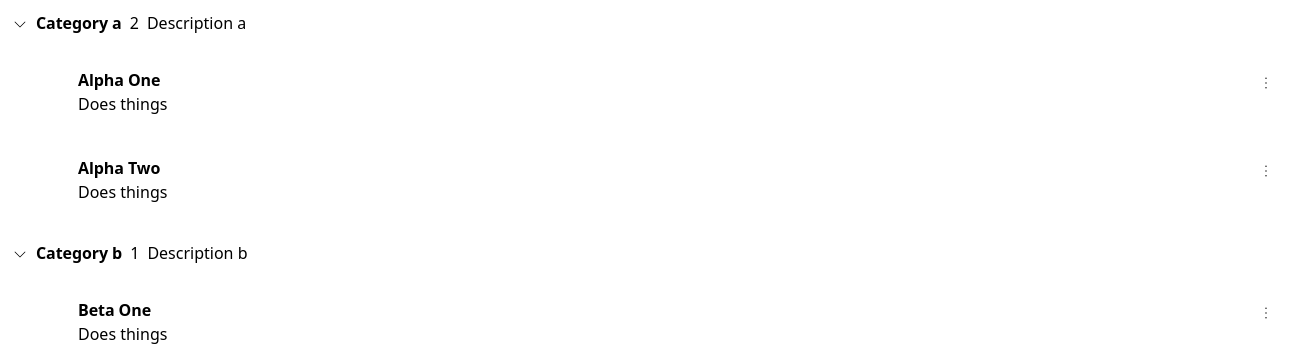
Test: CategoryAccordion › collapses only the clicked category, and re-expands on a second click
Click the button "Category a2 Description a" at coordinates (79, 23), box [12,12,1292,43]
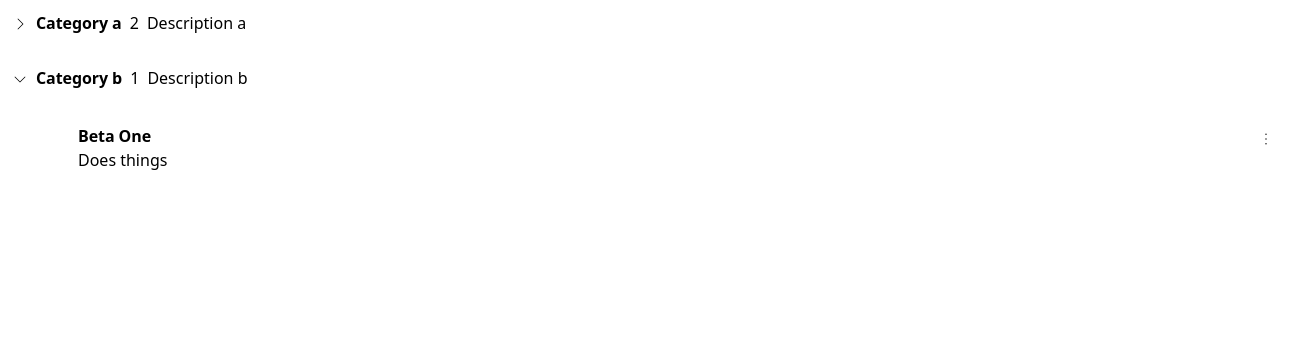
expect the button "Category a2 Description a" is collapsed: met
expect the link "Alpha One" is gone: met
expect the link "Alpha Two" is gone: met
Click the button "Category a2 Description a" at coordinates (79, 23), box [12,12,1292,43]
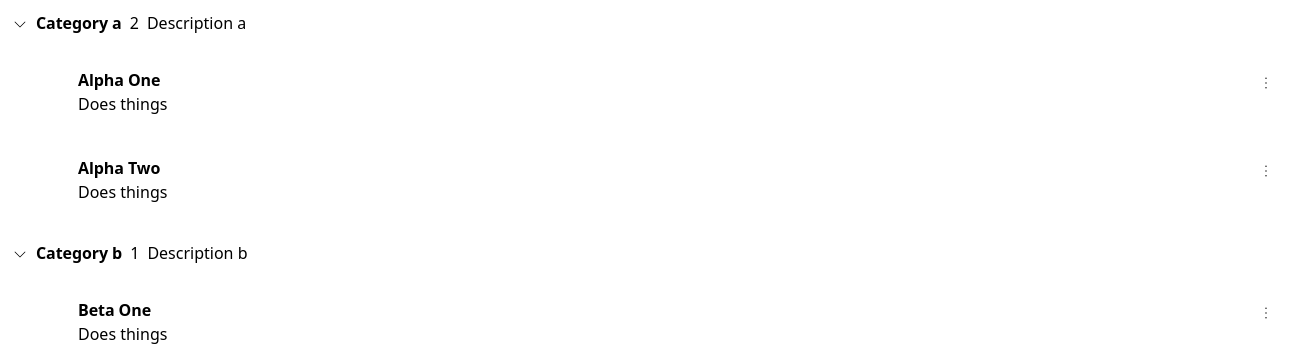
expect the button "Category a2 Description a" is expanded: met, box [12,12,1292,43]
expect the link "Alpha One" is shown: met, box [78,69,160,91]
